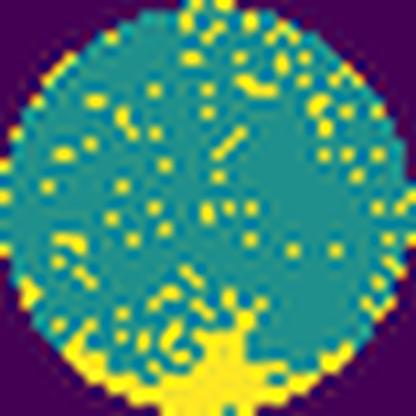Edge-Loc: (65, 289, 358, 416)
